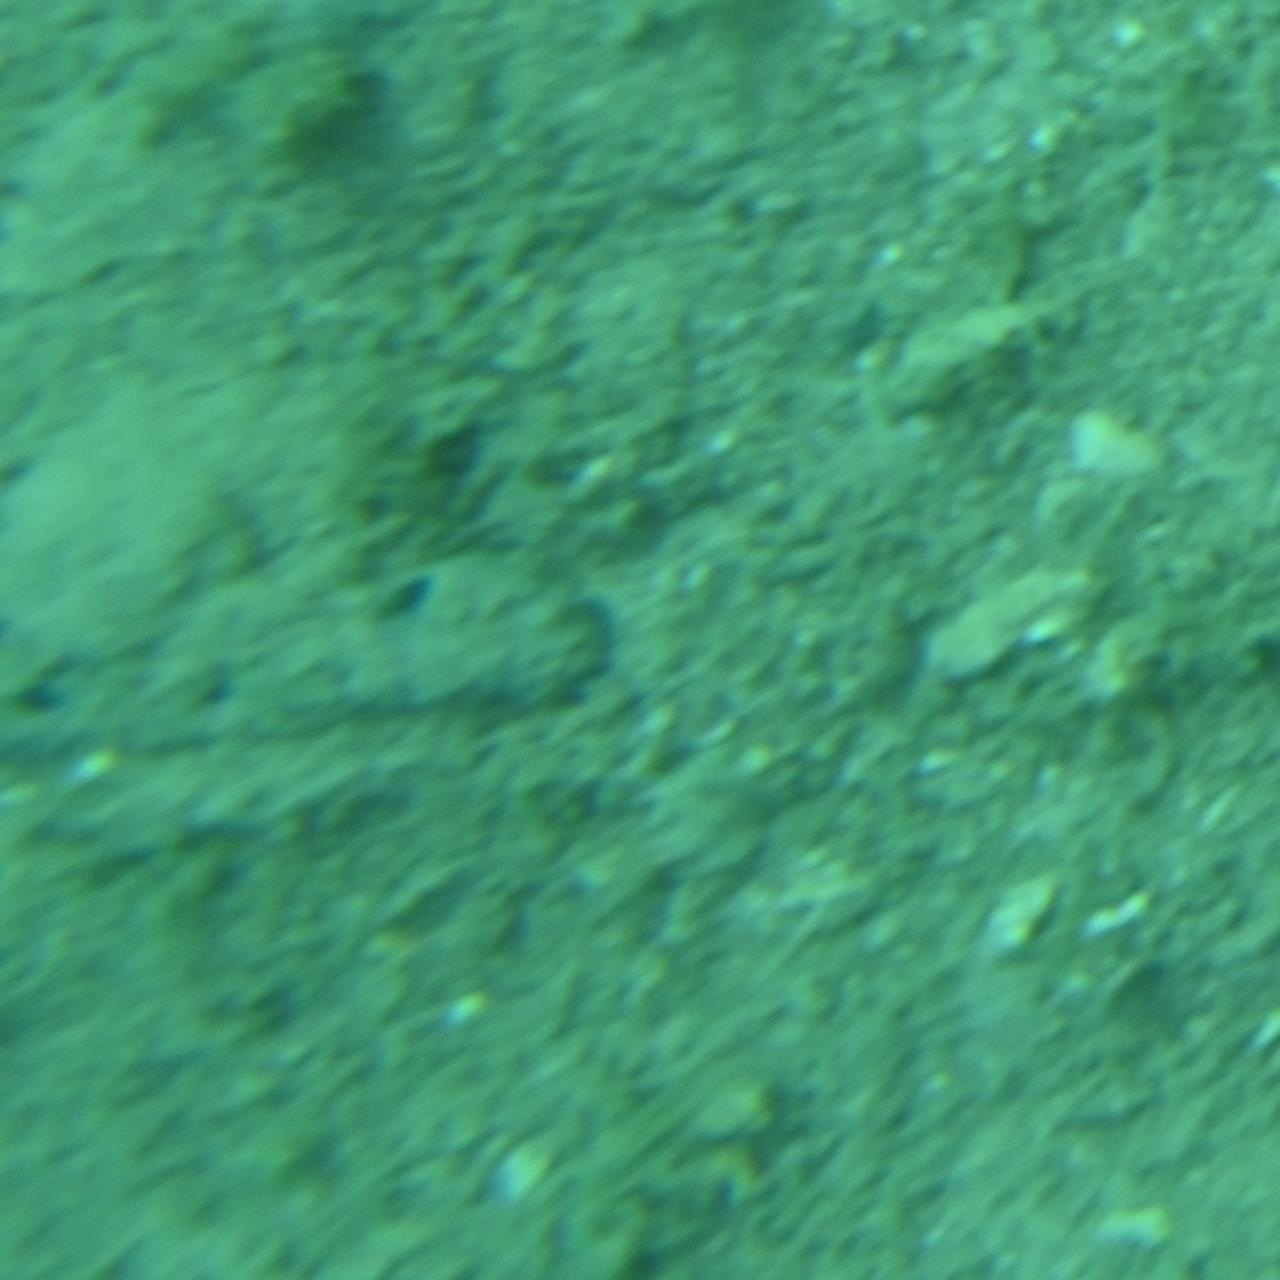Holothuria tubulosa: (0, 535, 633, 745)
